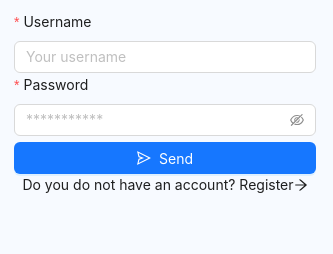
Scenario: FormLogin › displays error message when password is empty
In the field labelled "Username": (165, 57) [14,41,316,73], type "test"
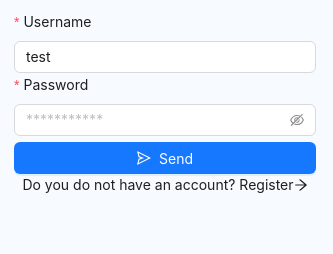
Submit the form from the button "Send", box [14,142,316,174]
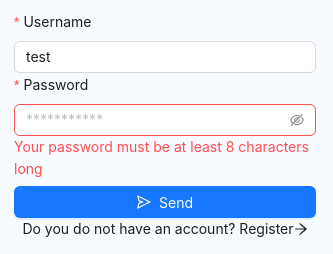
Now the text "Your password must be at least 8 characters long" is shown, box [14,136,316,180]
